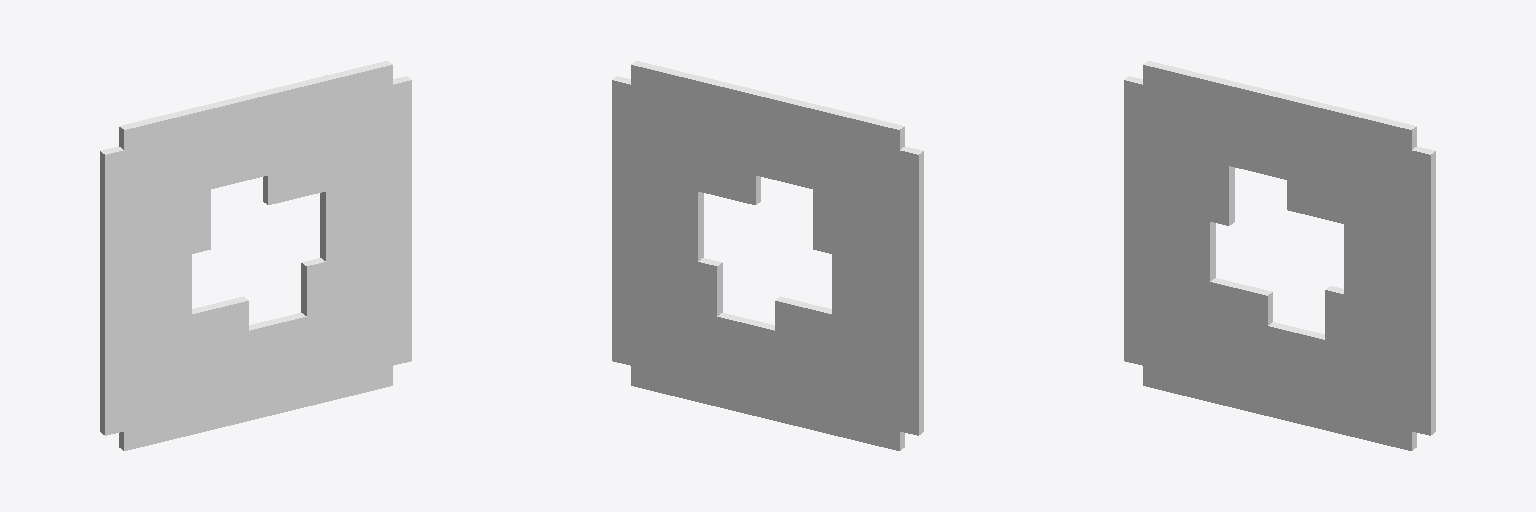
File: quadDoor.obj
3 renders of one model, left to right at view 1: azimuth 30°, elevation 25°; view 2: azimuth 150°, elevation 25°; view 3: azimuth 330°, elevation 25°, orthographic.
Parts seen in each view (by area): view 1: object 1; view 2: object 1; view 3: object 1.
Boxes of the visible parts, x1,y1,x2,y2 form: object 1: [100, 61, 411, 450]; object 1: [612, 61, 923, 450]; object 1: [1124, 61, 1435, 450].
Bounding box in the file's own units: 3.2 × 3.2 × 0.1.